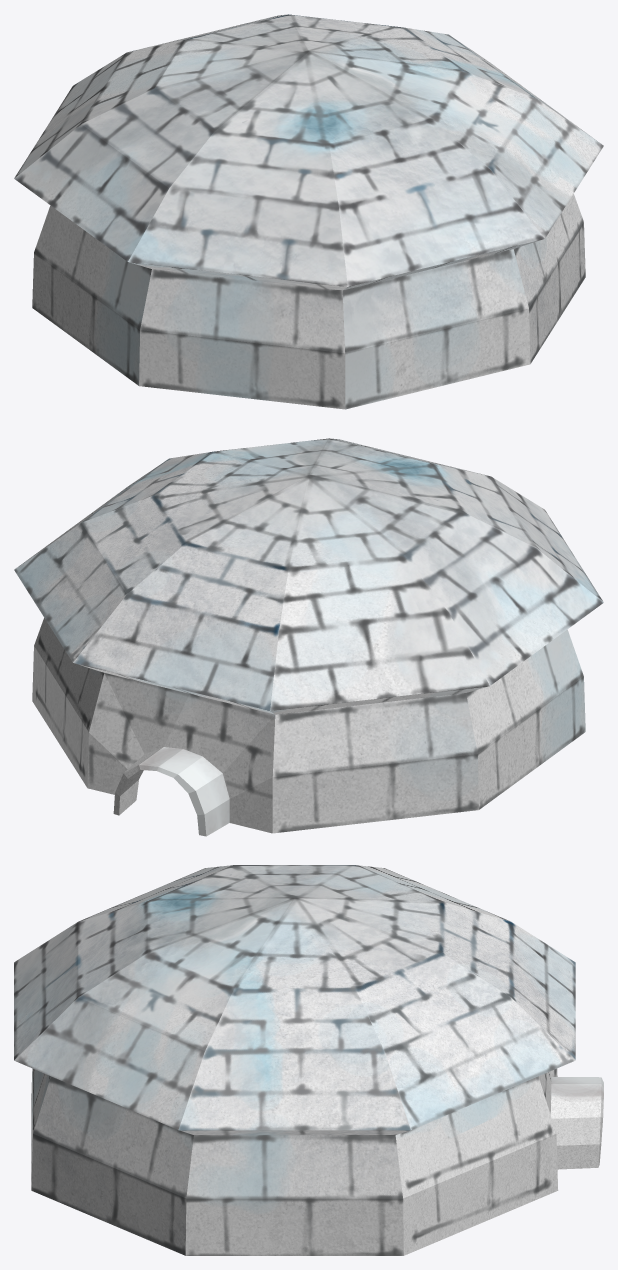
The model's file is Igroo2.fbx.
3 renders of one model, top to bottom at view 1: azimuth 30°, elevation 25°; view 2: azimuth 150°, elevation 25°; view 3: azimuth 270°, elevation 25°, orthographic. The views are drawn at different scales.
Parts seen in each view (by area): view 1: pSphere2; view 2: pSphere2; view 3: pSphere2.
Part boxes in pixels (x1,y1,x2,y2): pSphere2: (14,14,603,409); pSphere2: (14,438,603,836); pSphere2: (14,865,603,1255).
Size of the model in its own units: 17.65 by 8.54 by 18.54.
